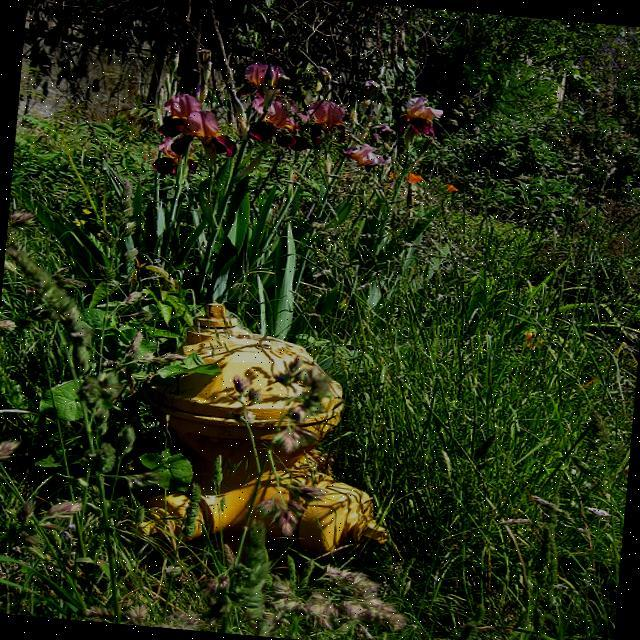fire_hydrant: (132, 298, 403, 576)
